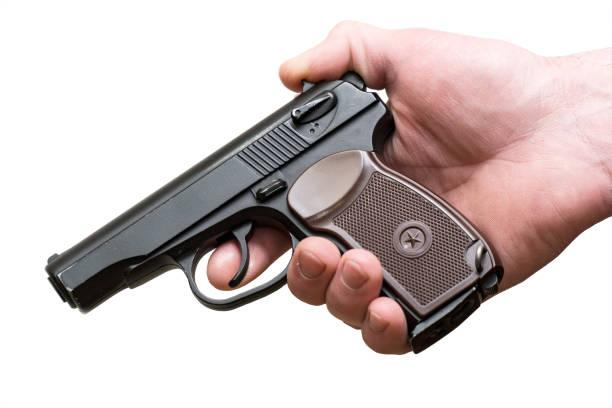weapon: (40, 65, 504, 359)
